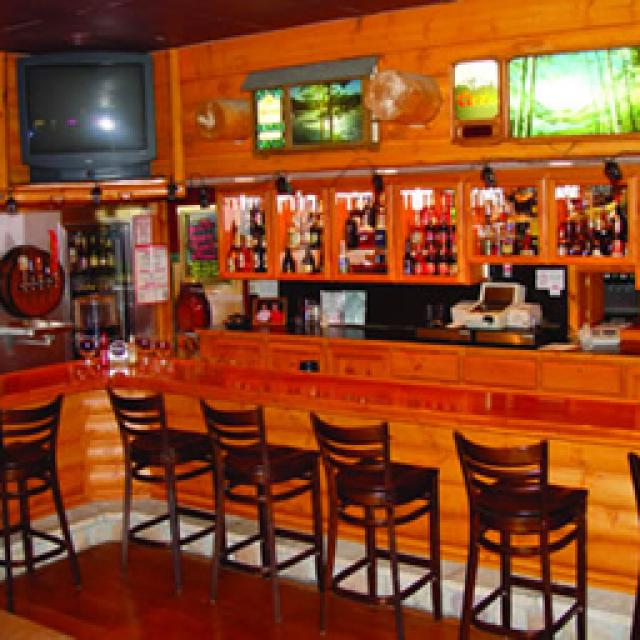bar stool: (0, 352, 635, 590)
billboard: (132, 240, 170, 300)
cash register: (418, 280, 562, 342)
chair -occluded-: (310, 405, 440, 638), (450, 422, 585, 638), (198, 392, 322, 618), (102, 382, 222, 590), (2, 388, 80, 610)
tv camera: (12, 52, 155, 182)
